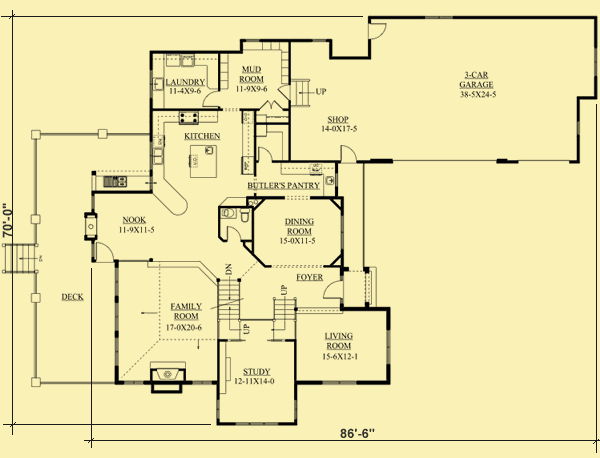door: (322, 280, 345, 302), (367, 20, 390, 41), (256, 99, 286, 114), (224, 223, 245, 244), (93, 242, 114, 263), (200, 88, 222, 108), (339, 144, 357, 164), (256, 145, 271, 163)
kitchen_bar: (187, 143, 219, 180)
sink: (152, 75, 164, 92)
stairs: (214, 275, 245, 340), (2, 240, 40, 277), (290, 78, 328, 110), (266, 297, 298, 323)
window: (385, 327, 393, 365), (233, 420, 280, 426), (319, 379, 357, 386), (187, 378, 214, 386)
